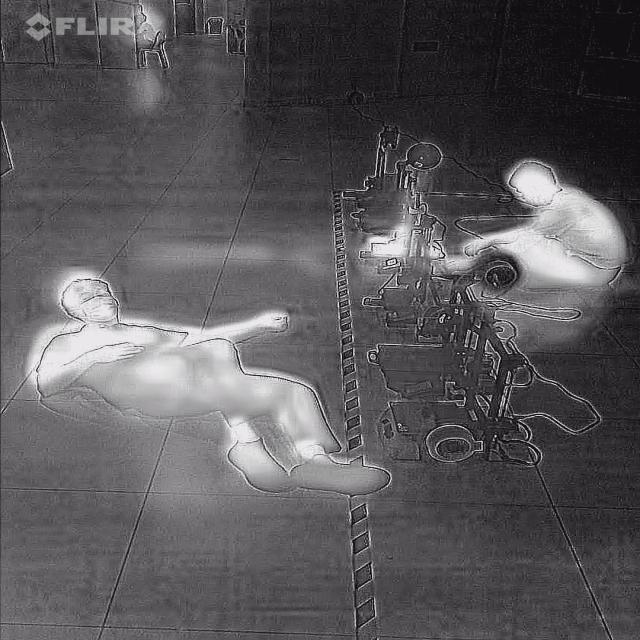Victim: (26, 264, 398, 499), (457, 141, 635, 295)
